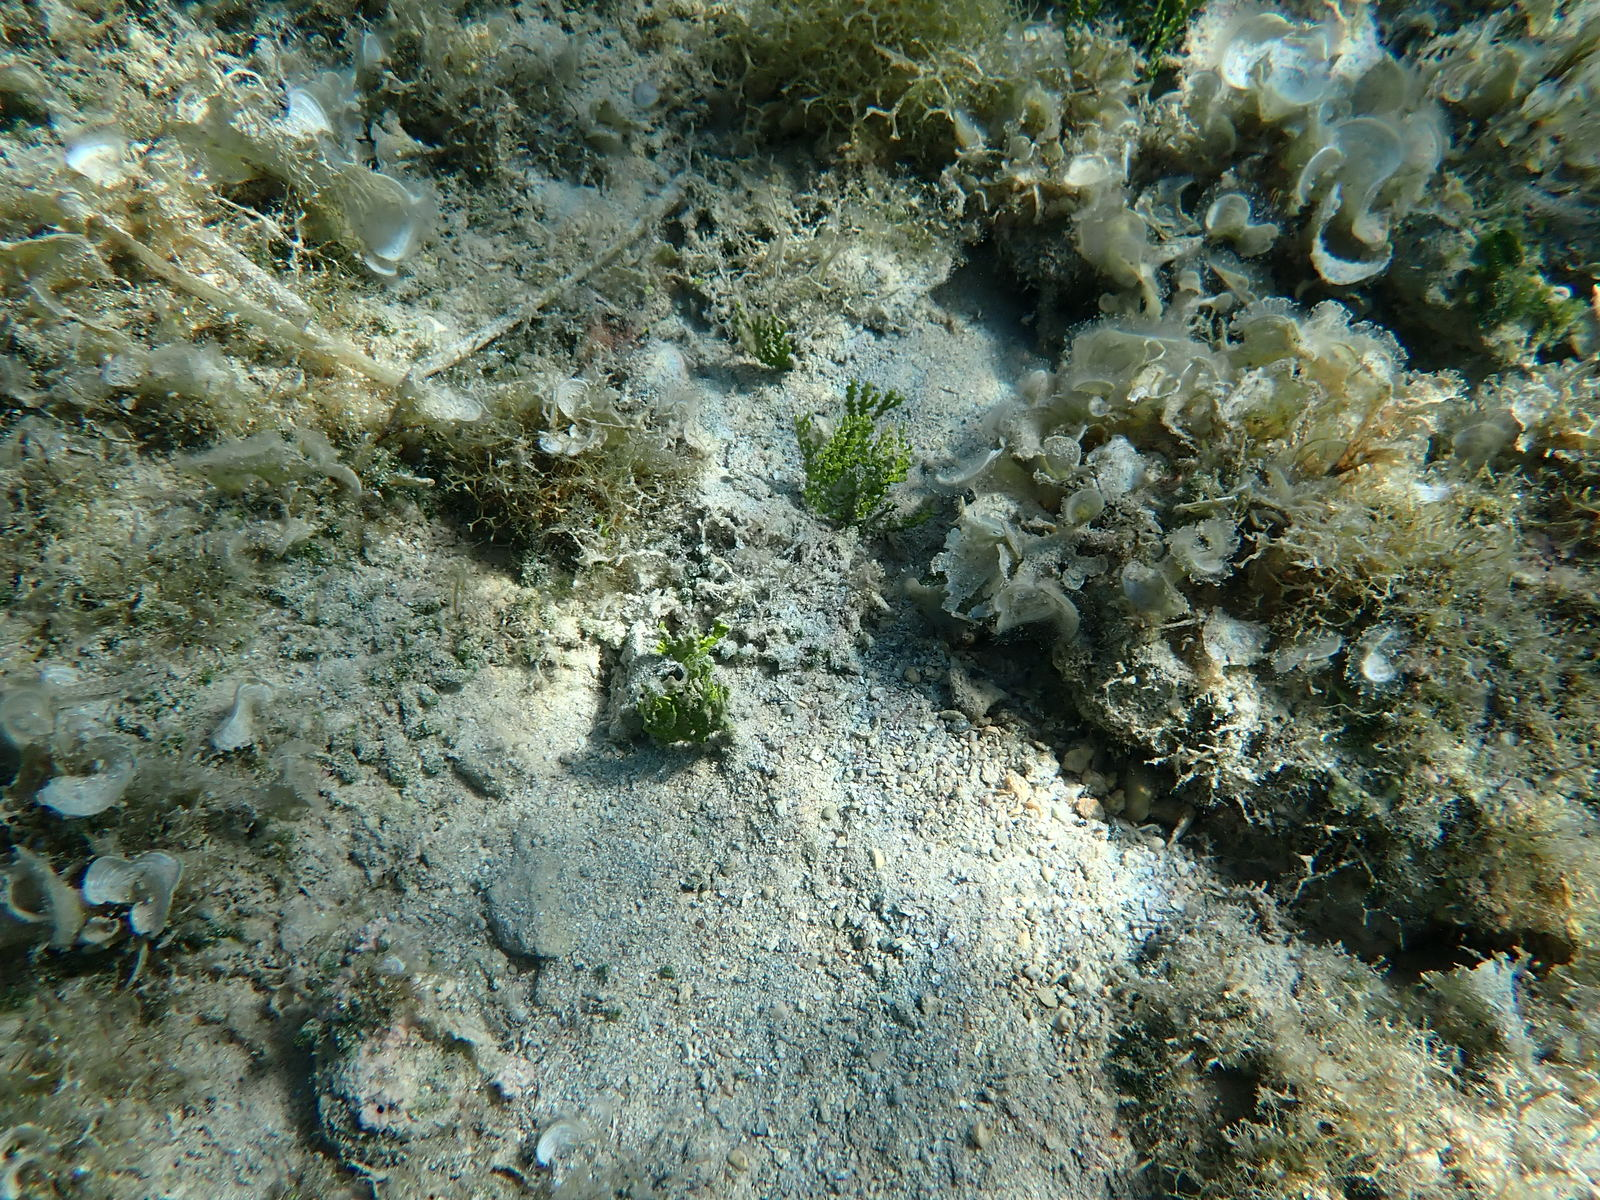halimeda: (820, 413, 913, 522), (654, 616, 731, 669), (734, 308, 797, 366), (842, 379, 905, 425), (791, 410, 818, 509), (698, 674, 731, 742), (643, 695, 677, 747)
